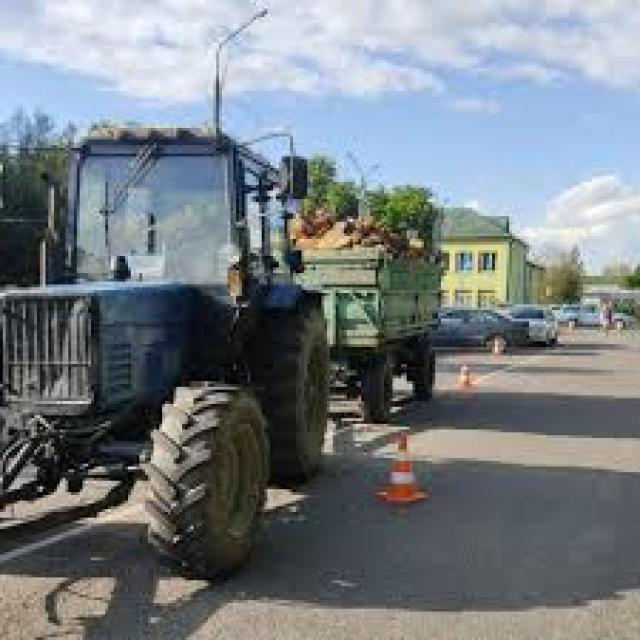Tratores - v5 YOLO V8L 2024-11-13: (0, 122, 331, 578)
